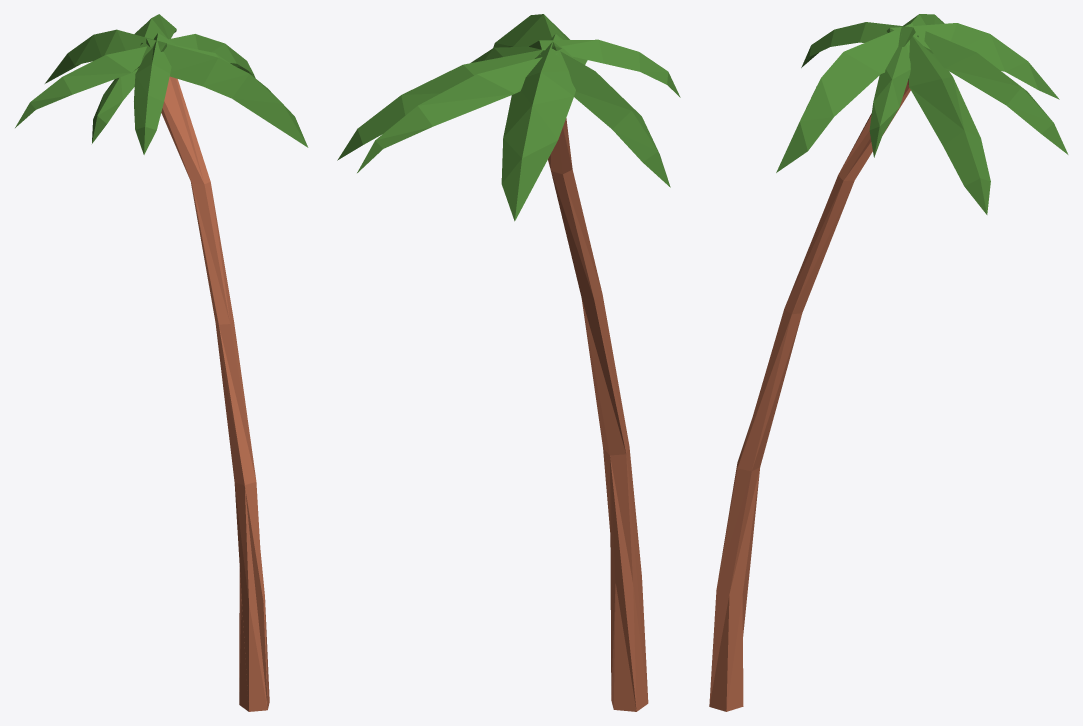
The model's file is Tree_10_summer_vc.fbx.
3 renders of one model, left to right at view 1: azimuth 30°, elevation 25°; view 2: azimuth 150°, elevation 25°; view 3: azimuth 270°, elevation 25°, orthographic. The views are drawn at different scales.
Visible parts, largest first — view 1: Tree_10_summer_vc; view 2: Tree_10_summer_vc; view 3: Tree_10_summer_vc.
Boxes of the visible parts, x1,y1,x2,y2 form: Tree_10_summer_vc: (15,14,308,711); Tree_10_summer_vc: (337,14,680,711); Tree_10_summer_vc: (709,14,1068,711).
Bounding box in the file's own units: 2.32 × 5.24 × 2.54.
